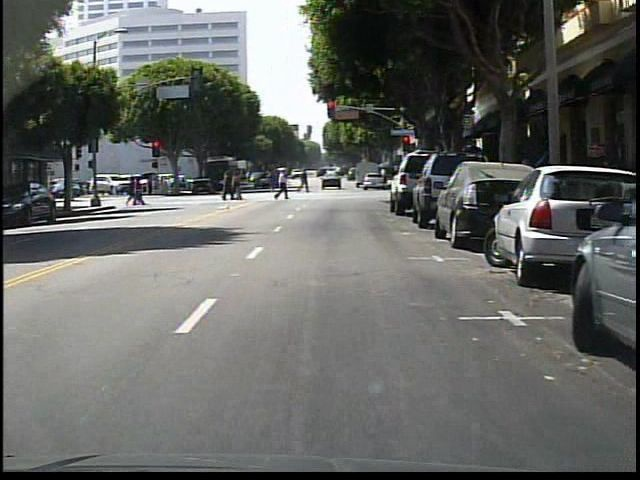person: (270, 166, 291, 205), (294, 167, 313, 197)
